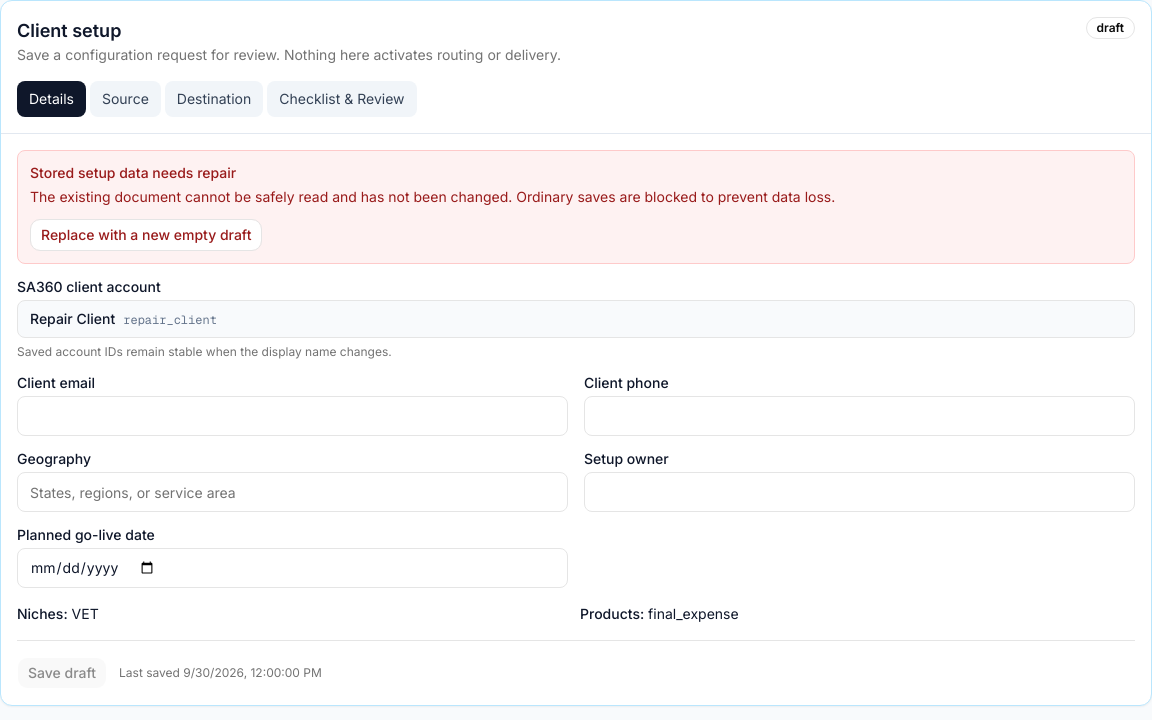
it: repair-required review state directs recovery and never claims completion
Step 1. Click the tab "Checklist & review" → click(342, 99), box [267,81,416,117]
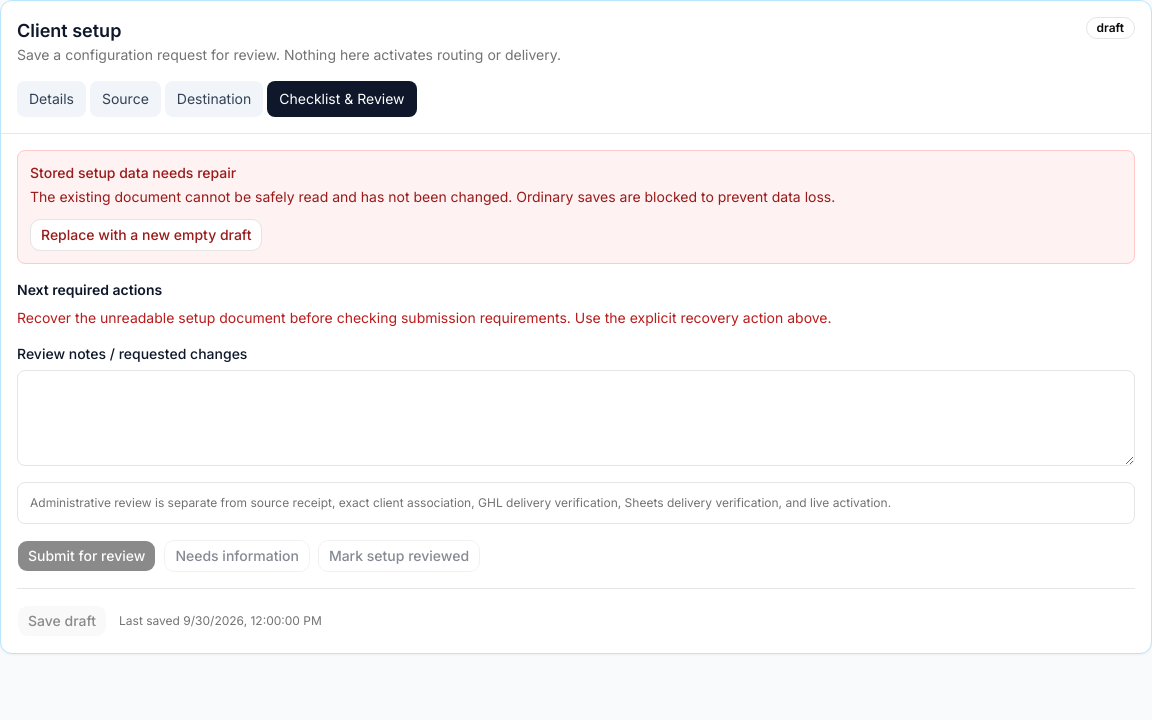
Check: the text "Recover the unreadable setup document before checking submission requirements. Use the explicit recovery action above." is shown, box [17,309,832,326]
